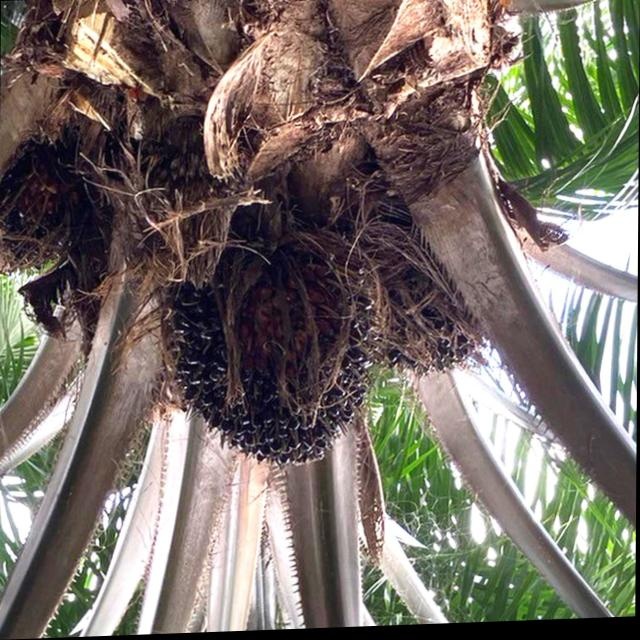almost: (153, 207, 388, 480)
